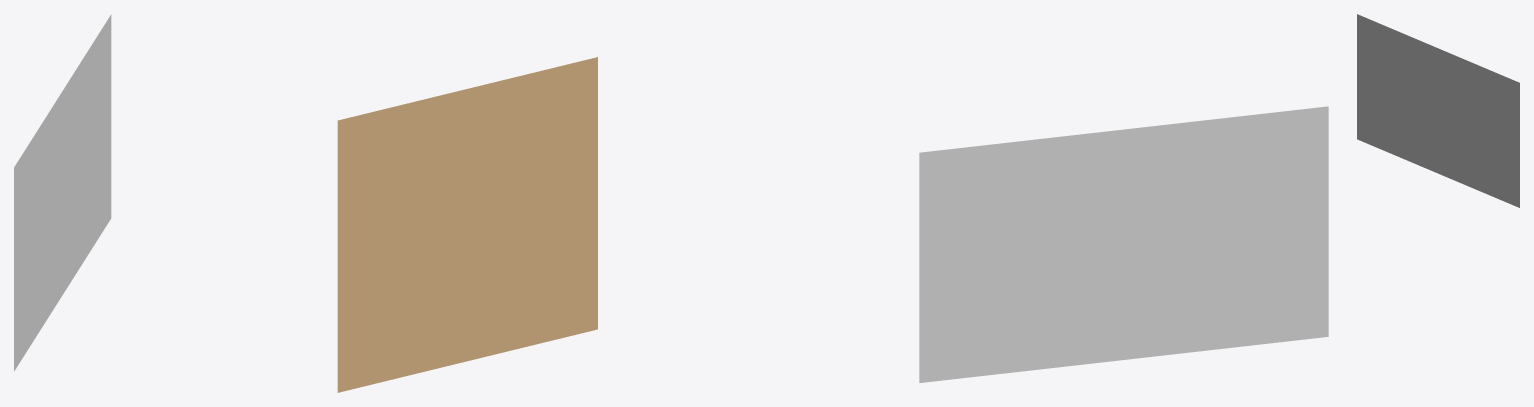
The model's file is quads-draco.gltf.
The picture shows the model from 3 angles, left to right: view 1: azimuth 30°, elevation 25°; view 2: azimuth 150°, elevation 25°; view 3: azimuth 270°, elevation 25°; orthographic projection. The views are drawn at different scales.
Bounding box in the file's own units: 3.71 × 1.9 × 1.41.
